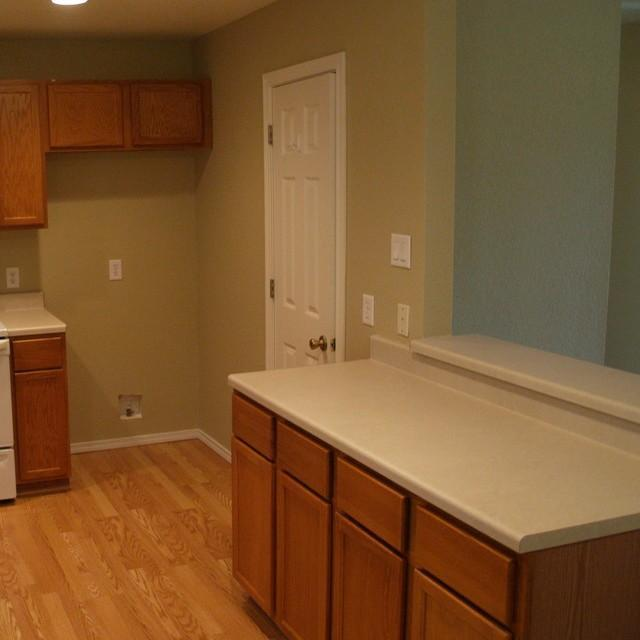doorhandle: (307, 331, 332, 358)
